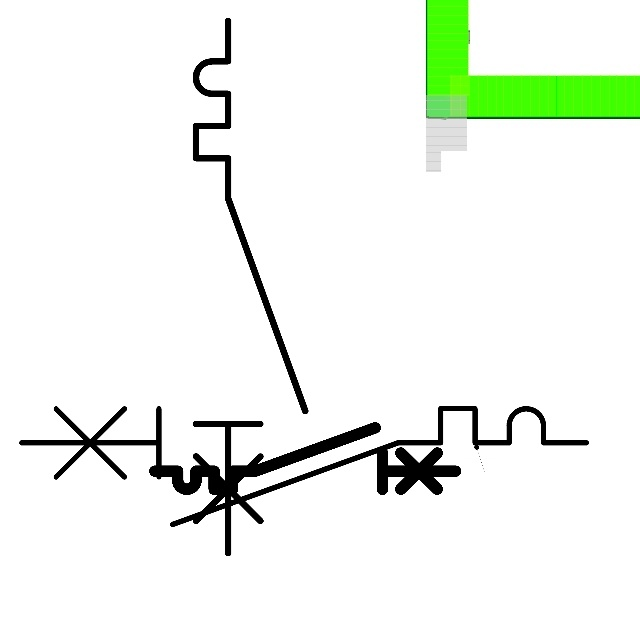interruptor_termomagnetico: (7, 394, 601, 539), (182, 7, 319, 567), (147, 420, 463, 497)
